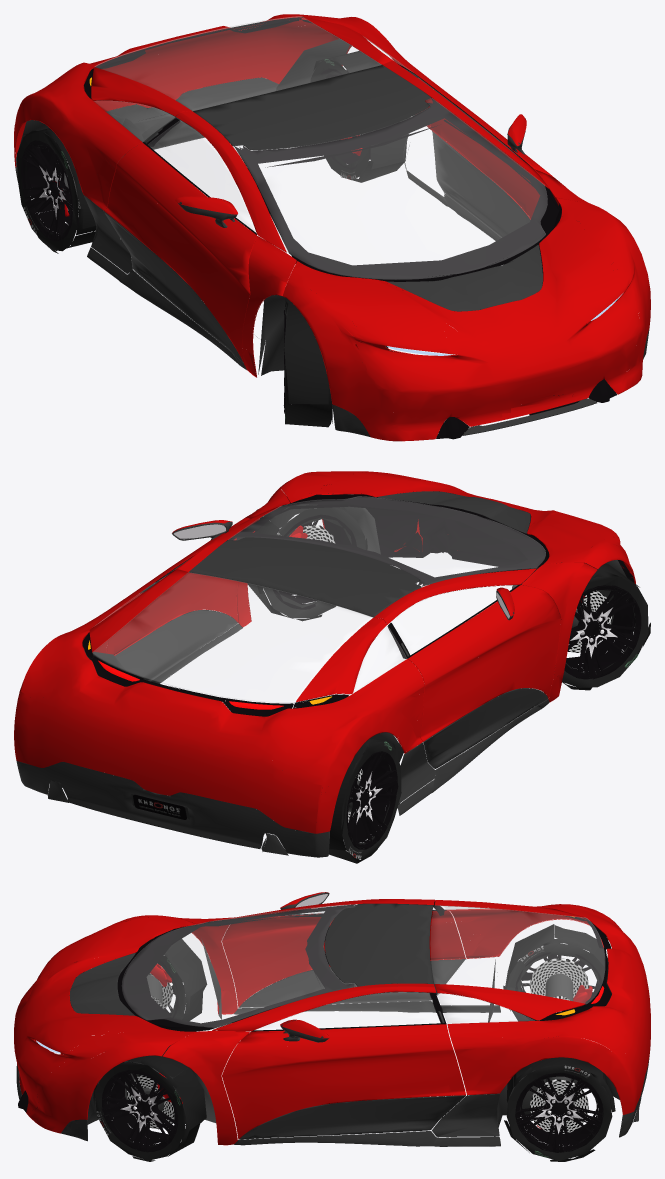
Rendered from city-car.glb.
The picture shows the model from 3 angles, top to bottom: view 1: azimuth 30°, elevation 25°; view 2: azimuth 150°, elevation 25°; view 3: azimuth 270°, elevation 25°; orthographic projection. The views are drawn at different scales.
Parts seen in each view (by area): view 1: BodyRearPanelsColor1, BodyWindshield, BodyRoofPanel, BodyWindshieldGasket, Mesh_89, WheelFrontLRim, BodyUnderside; view 2: BodyRearPanelsColor1, BodyWindshield, BodyRoofPanel, BodyWindshieldGasket, WheelFrontLRim, Mesh_89, BodyUnderside, WheelFrontLBrakeDisc, License Plate, BodyDoorRMirror; view 3: BodyRearPanelsColor1, BodyWindshield, BodyRoofPanel, Mesh_89, WheelFrontLRim, BodyWindshieldGasket, WheelFrontLBrakeDisc, BodyUnderside, WheelFrontLBrakePad.
Boxes of the visible parts, x1,y1,x2,y2 form: BodyRearPanelsColor1: (14, 14, 650, 441); BodyWindshield: (94, 16, 547, 279); BodyRoofPanel: (15, 65, 649, 437); BodyWindshieldGasket: (84, 17, 616, 439); Mesh_89: (16, 51, 622, 427); WheelFrontLRim: (21, 68, 370, 413); BodyUnderside: (15, 39, 539, 375); BodyRearPanelsColor1: (14, 471, 635, 833); BodyWindshield: (92, 496, 545, 702); BodyRoofPanel: (16, 491, 631, 857); BodyWindshieldGasket: (82, 485, 634, 716); WheelFrontLRim: (272, 514, 641, 849); Mesh_89: (50, 497, 650, 863); BodyUnderside: (47, 493, 627, 855); WheelFrontLBrakeDisc: (303, 525, 611, 822); License Plate: (133, 794, 186, 819); BodyDoorRMirror: (174, 524, 509, 618); BodyRearPanelsColor1: (14, 892, 650, 1145); BodyWindshield: (122, 904, 604, 1029); BodyRoofPanel: (16, 892, 650, 1146); Mesh_89: (93, 924, 615, 1161); WheelFrontLRim: (101, 943, 603, 1152); BodyWindshieldGasket: (18, 902, 611, 1112); WheelFrontLBrakeDisc: (127, 958, 588, 1133); BodyUnderside: (87, 939, 640, 1136); WheelFrontLBrakePad: (150, 963, 592, 1128).
Bounding box in the file's own units: 2.54 × 1.17 × 4.36.
Materials: 16 (5 with a texture image).
